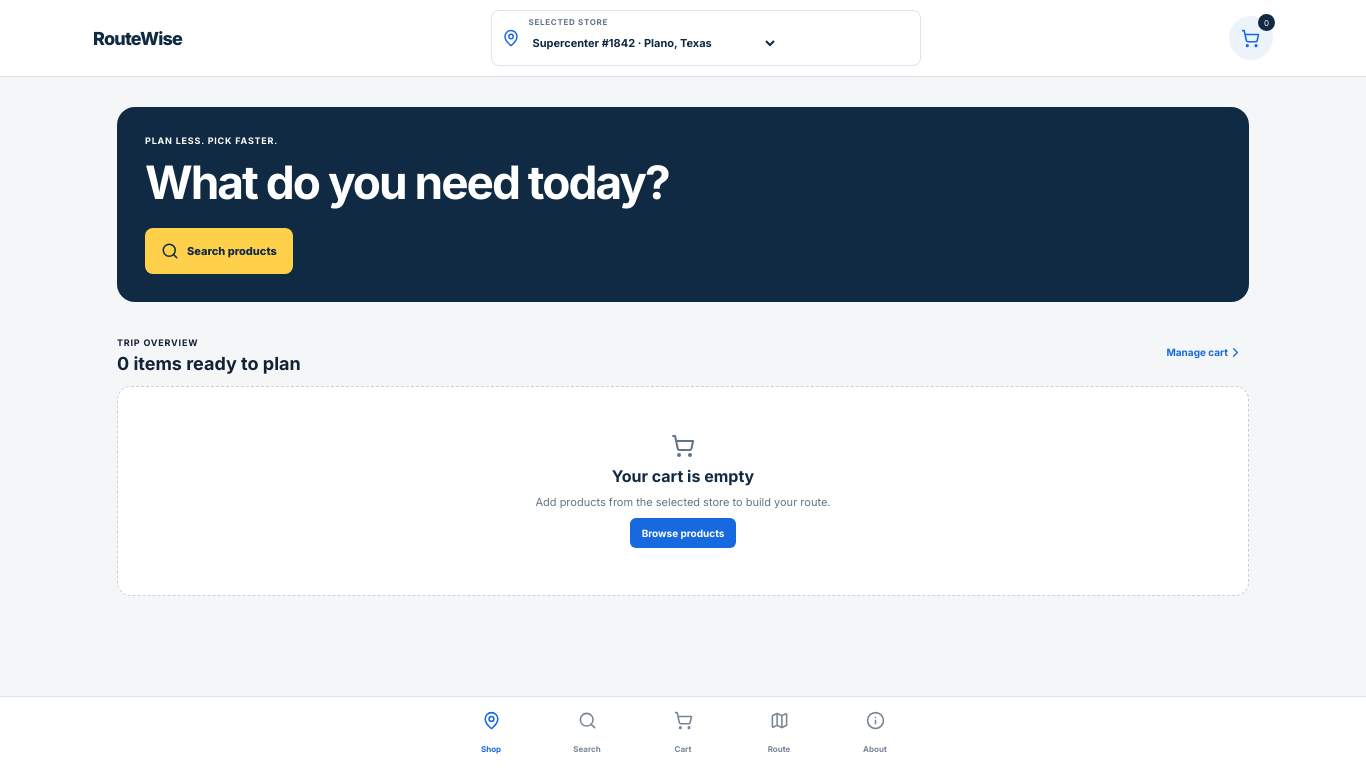
it: mobile shopping journey › confirms before clearing active cart items
What coordinates should you click on to do the following:
click the button "Search"
I would click on:
 (587, 732)
Its box is [551, 704, 623, 761].
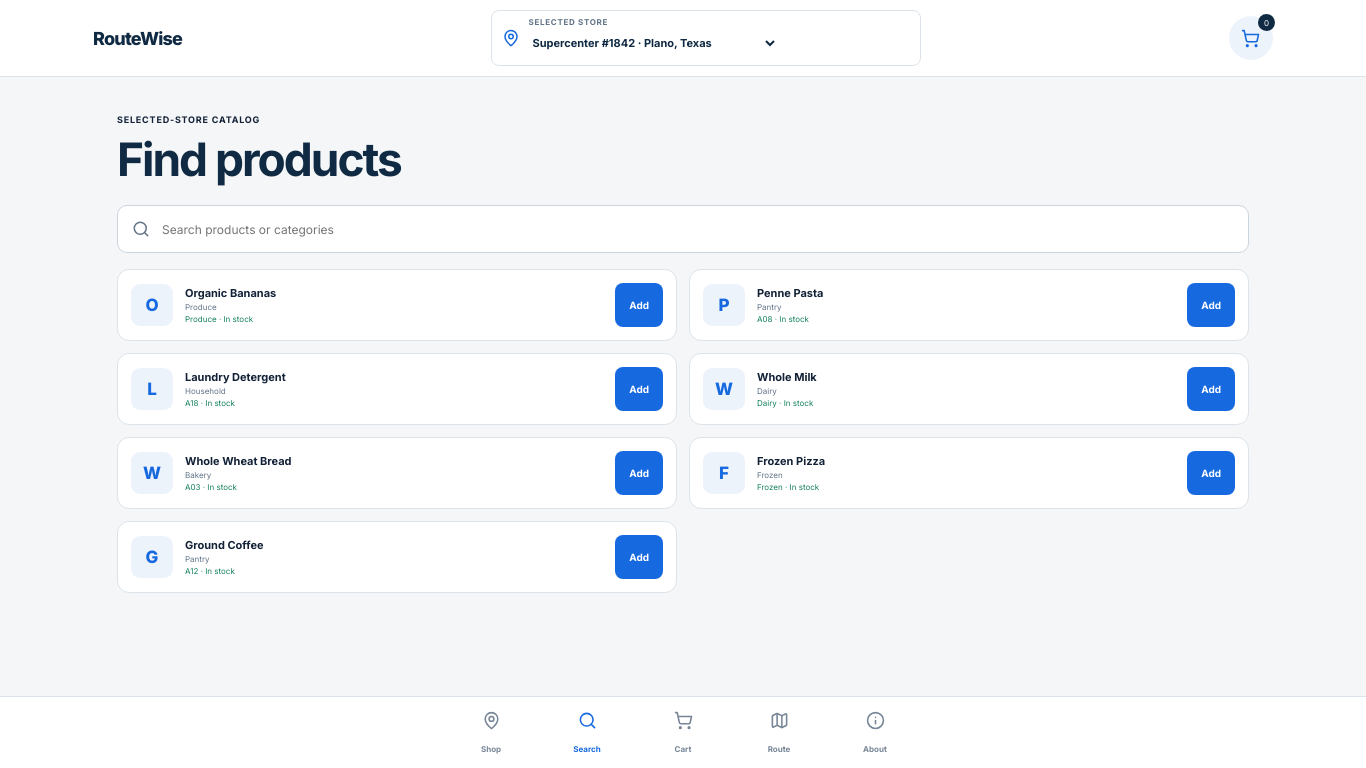
What coordinates should you click on to do the following:
click the button "Add " in the row of "Organic Bananas"
I would click on:
 (639, 305)
Its box is [615, 283, 663, 327].
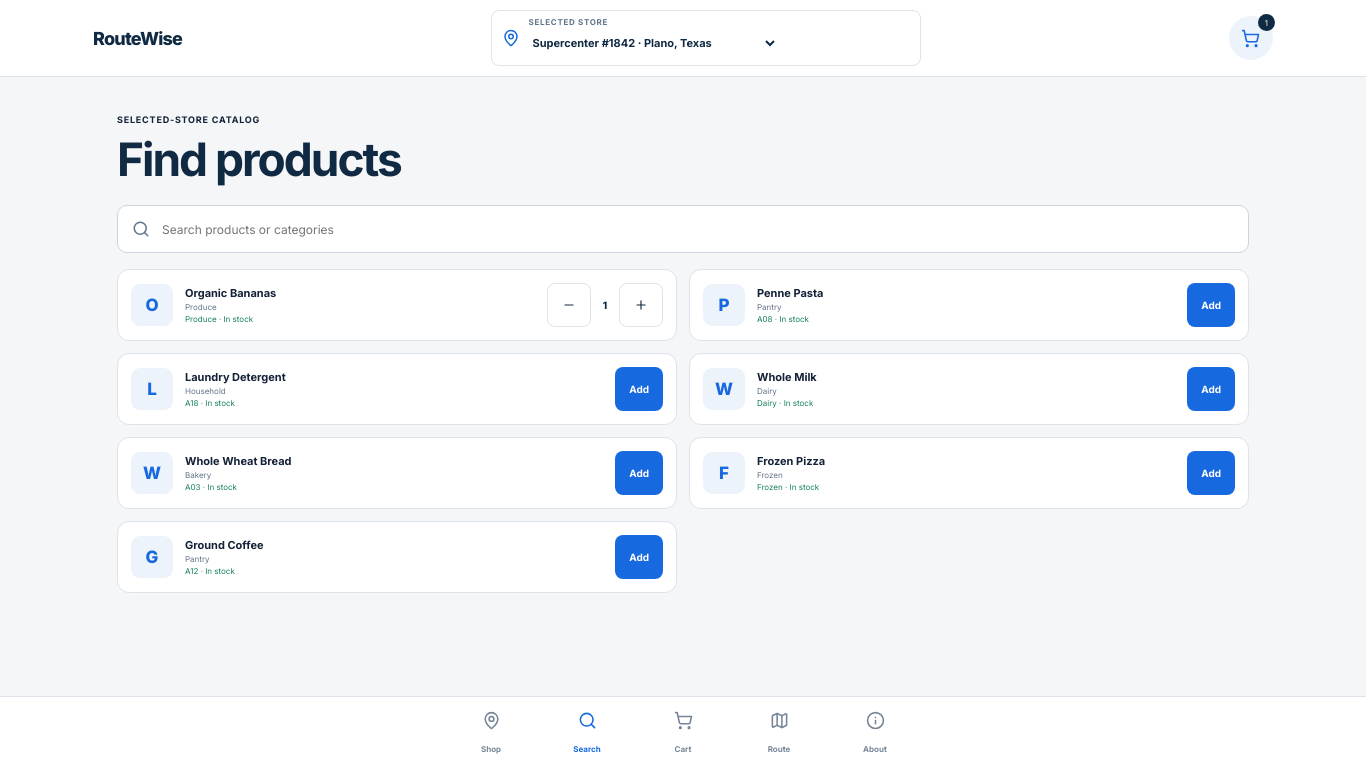
What coordinates should you click on to do the following:
click the button "Cart"
I would click on:
 (683, 732)
Its box is [647, 704, 719, 761].
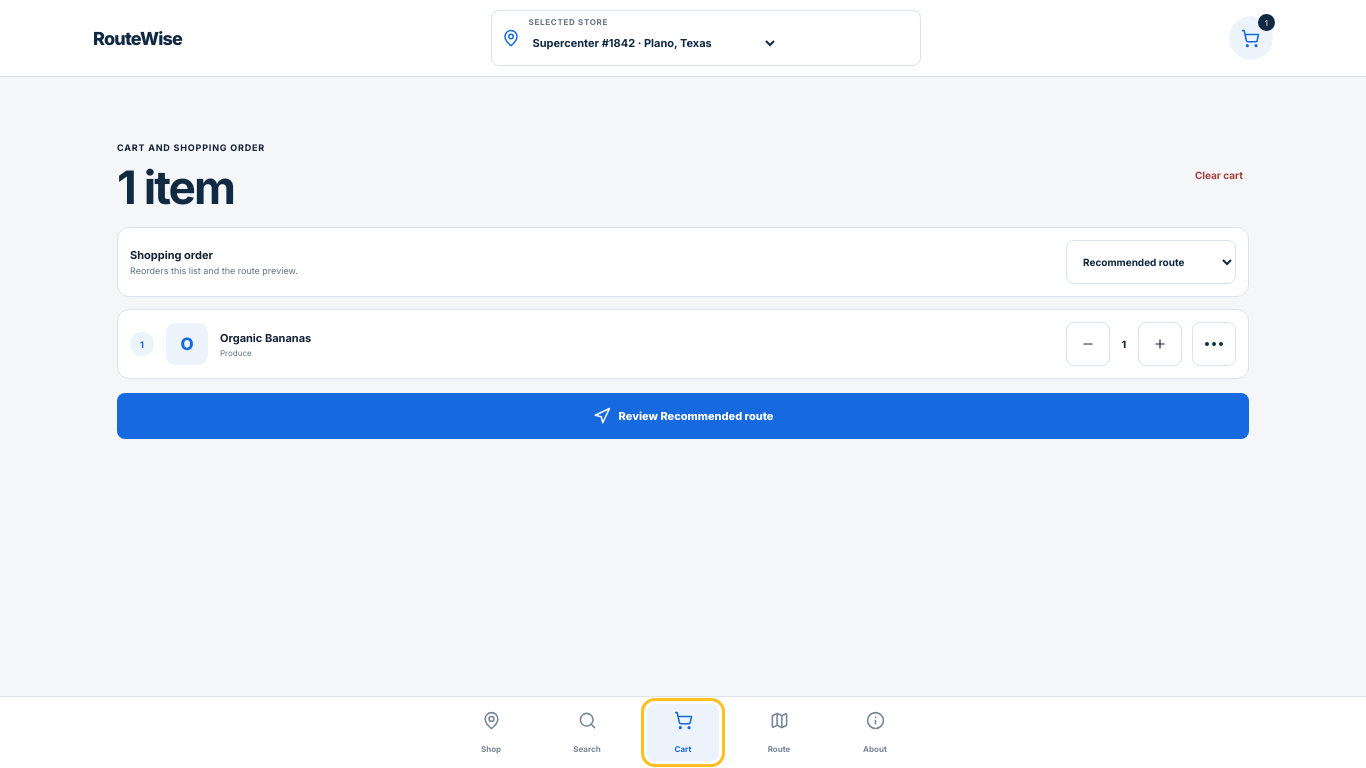
What coordinates should you click on to do the following:
click the button "Clear cart"
I would click on:
 (1219, 175)
Its box is [1189, 153, 1249, 197].
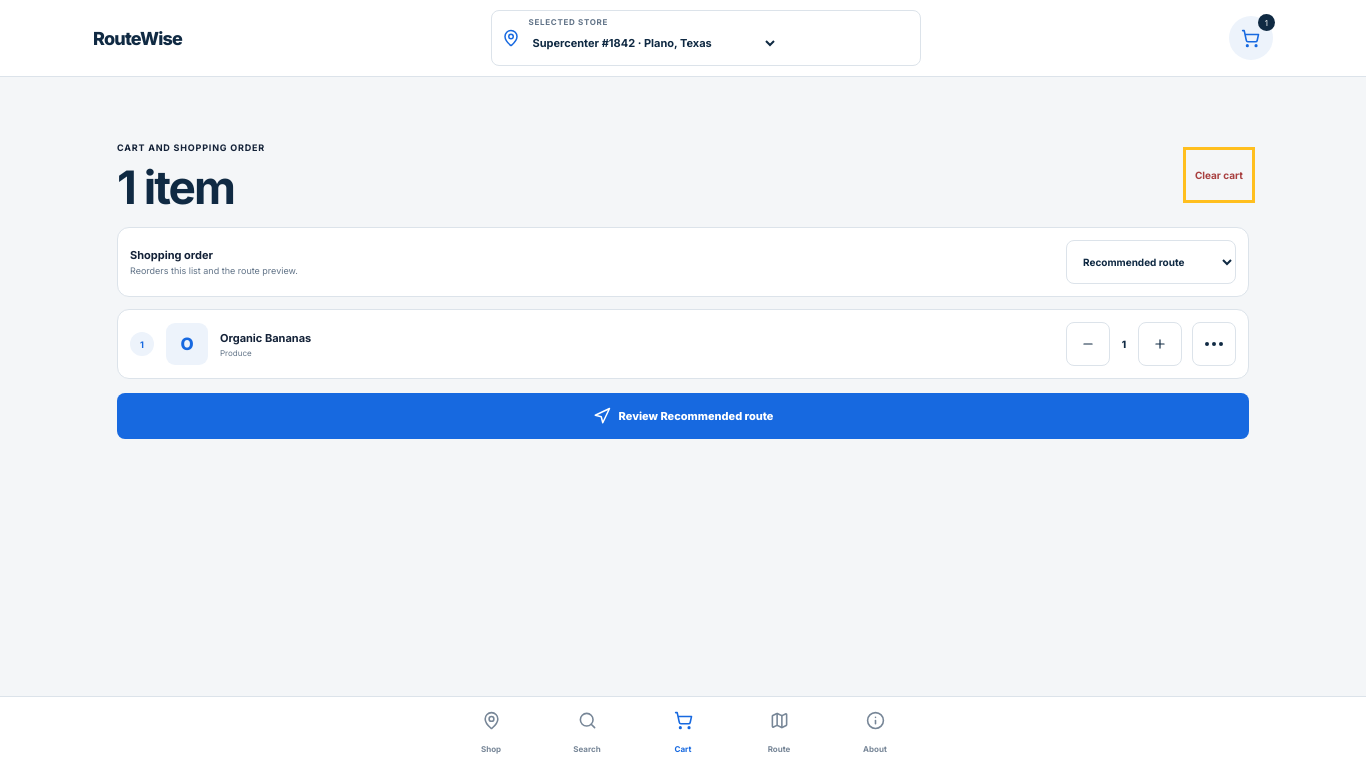
Expected: the text "Organic Bananas" is shown, [220, 330, 311, 344]
What coordinates should you click on to do the following:
click the button "Clear cart"
I would click on:
 (1219, 175)
Its box is [1189, 153, 1249, 197].
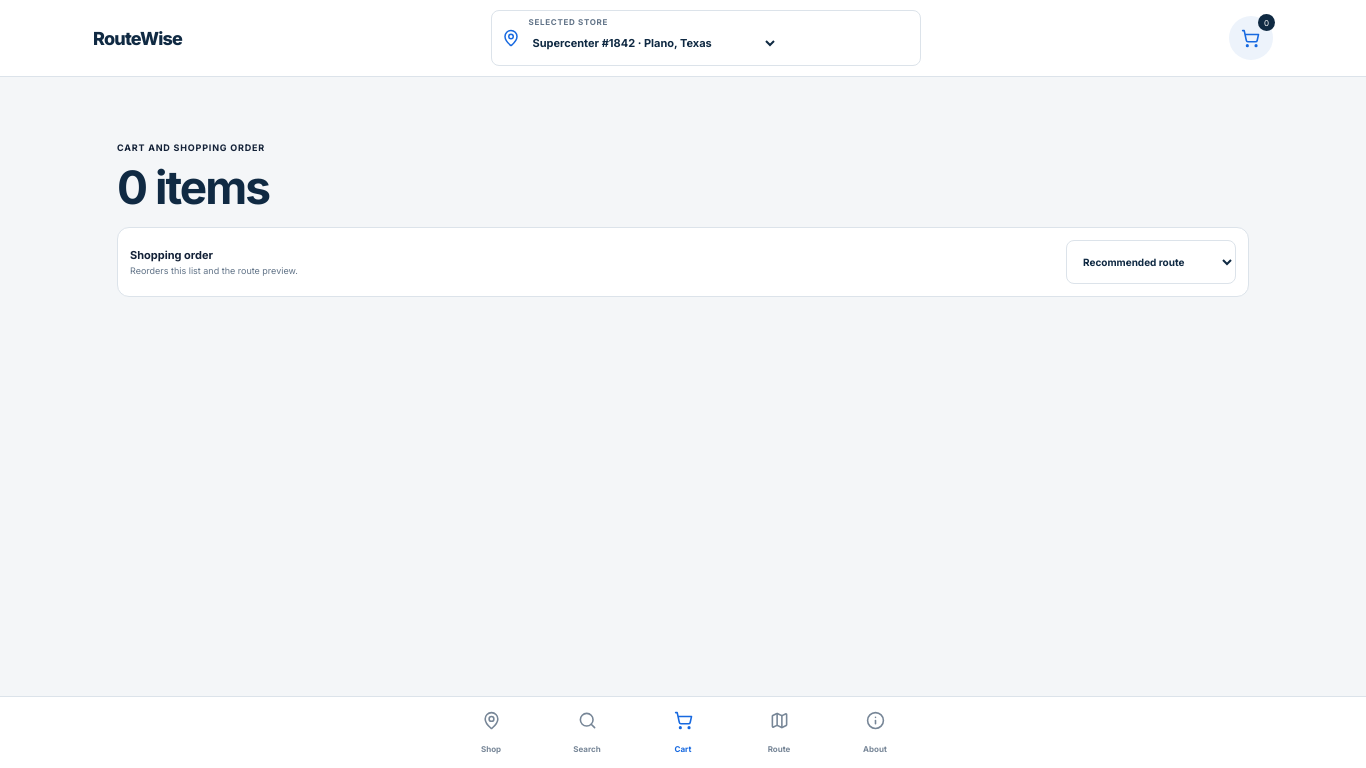
Expected: the heading "0 items" is shown, [117, 159, 269, 215]
